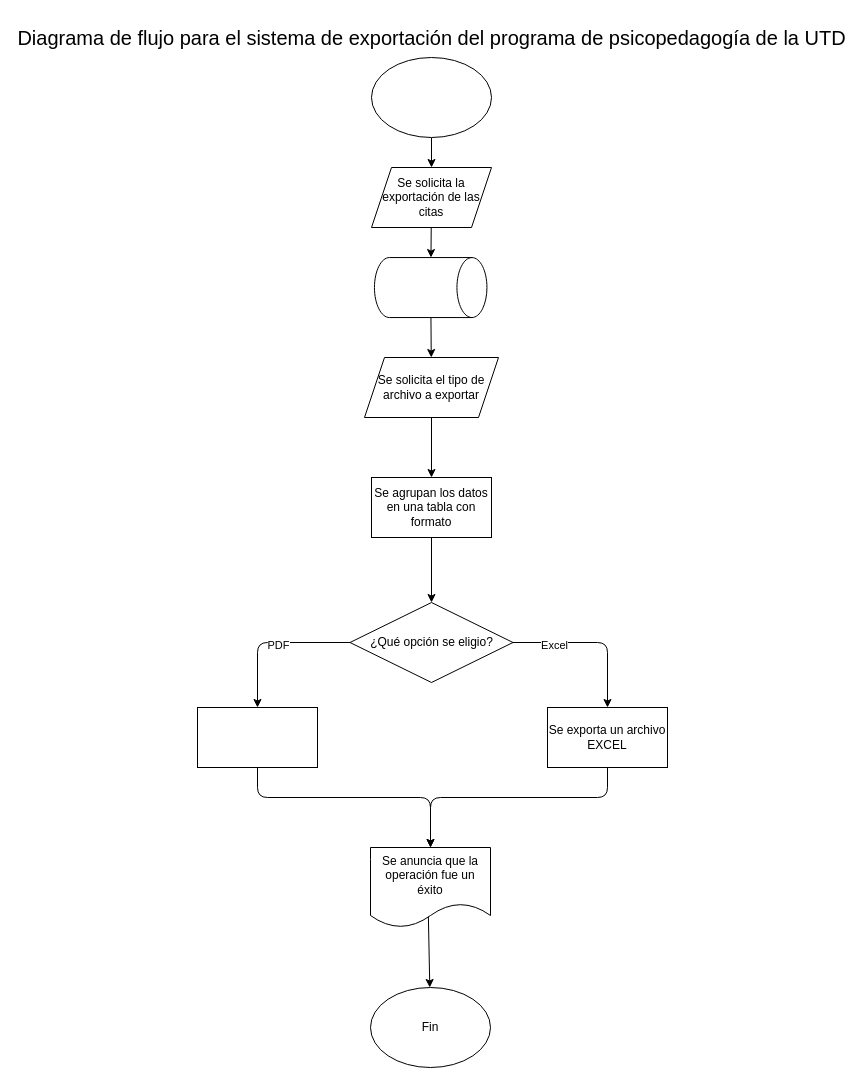
The diagram is 862 pixels wide and 1085 high, and some of its shapes have lost their labels. The shapes that lost their labels are listed below. From the top down, each one's box as (x1, y1, x2, y2) in pixels, then its label:
(370, 56, 492, 138): Inicio
(374, 257, 487, 318): La base de datos recopila los datos
(196, 706, 318, 768): Se exporta un archivo PDF
